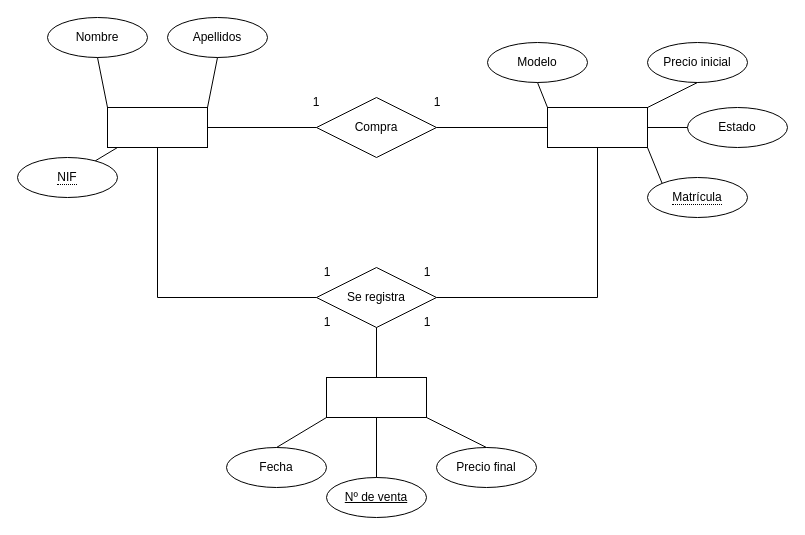
The diagram is 805 pixels wide and 535 high, and some of its shapes have lost their labels. Each missing label, with the centre of its shape:
"Particular" goes at point 157,127.
"Vehículo" goes at point 597,127.
"Venta" goes at point 376,397.
